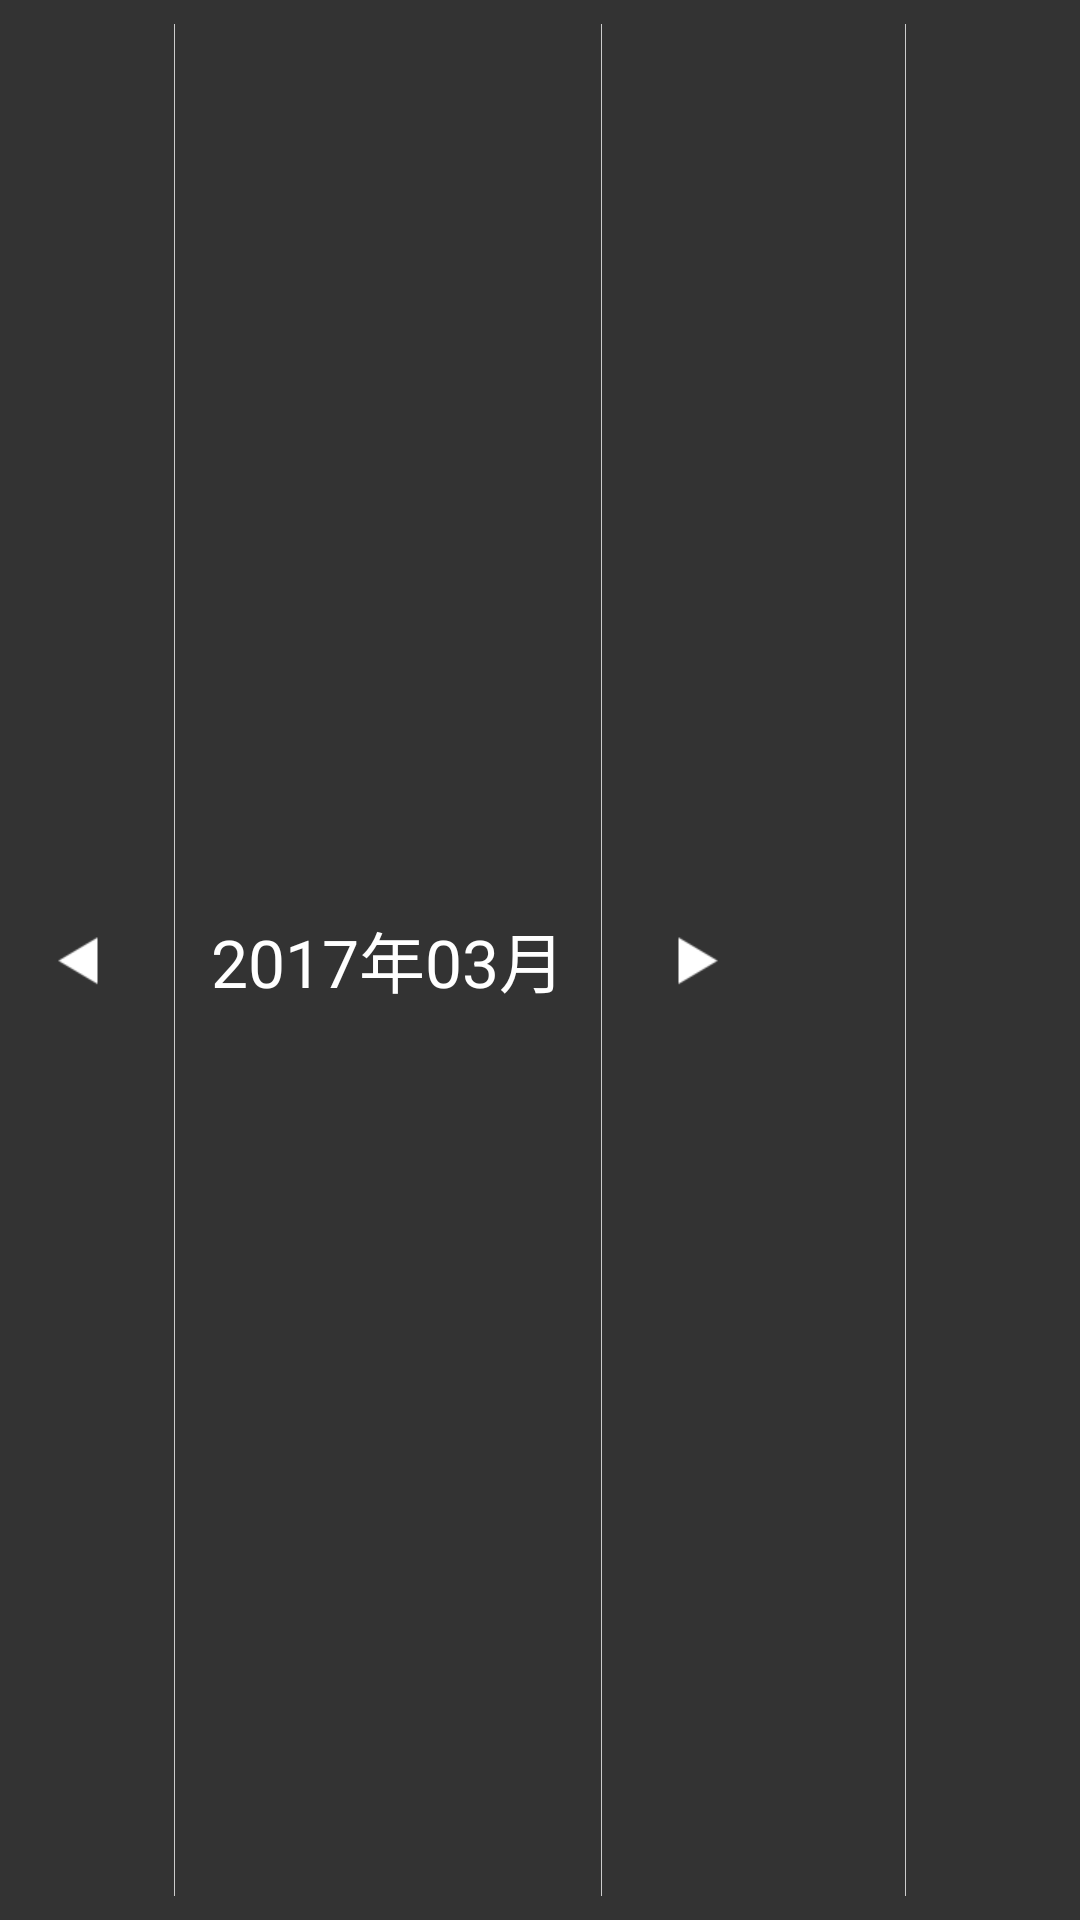

Named icons in this screenshot (1080px×1920px) and their centers, (x=x, y=y):
hdr back on: (x=78, y=960)
